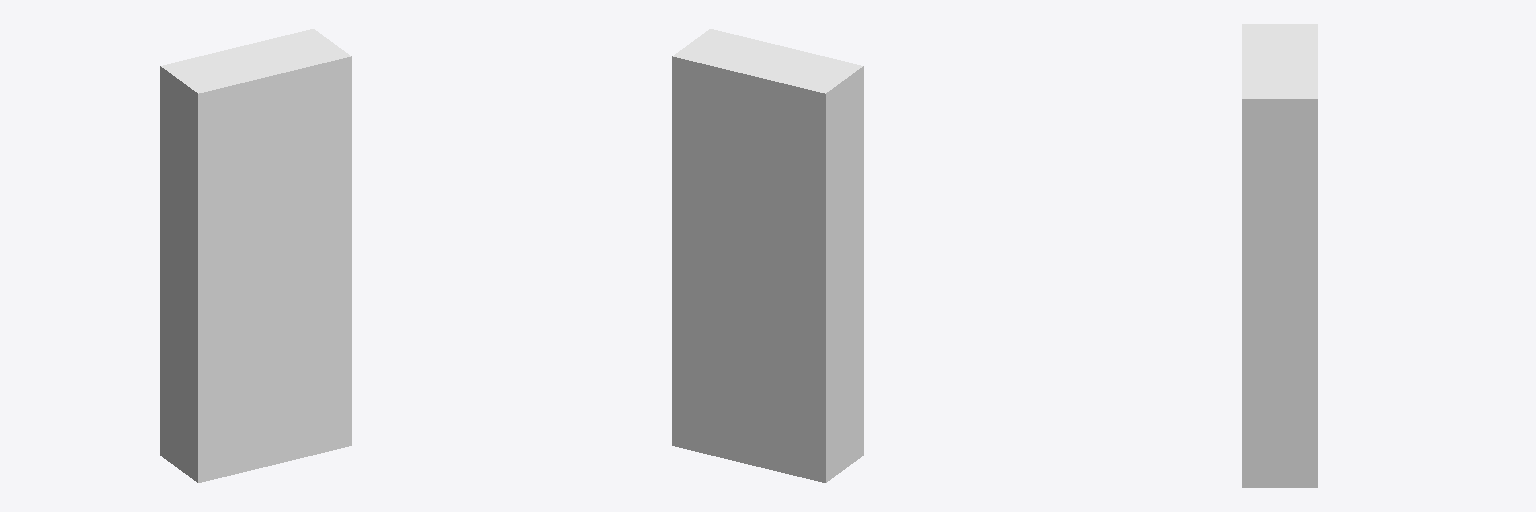
Rendered from wall_half.obj.
3 renders of one model, left to right at view 1: azimuth 30°, elevation 25°; view 2: azimuth 150°, elevation 25°; view 3: azimuth 270°, elevation 25°, orthographic.
Parts seen in each view (by area): view 1: object 1; view 2: object 1; view 3: object 1.
Part boxes in pixels (x1,y1,x2,y2): object 1: (160,29,351,482); object 1: (672,29,863,482); object 1: (1242,24,1317,487).
Bounding box in the file's own units: 0.7 × 1.7 × 0.3.